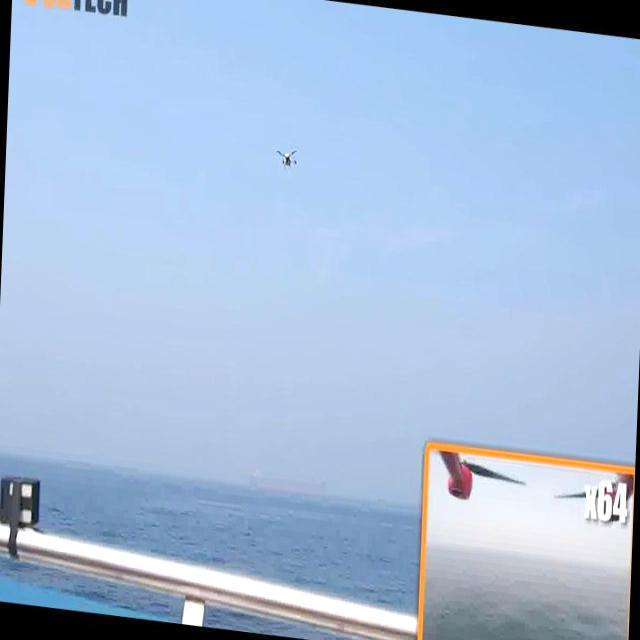drone: (276, 141, 302, 178)
